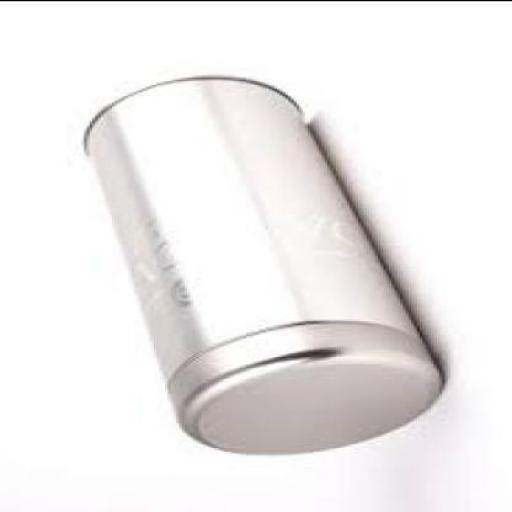metal: (81, 78, 442, 456)
